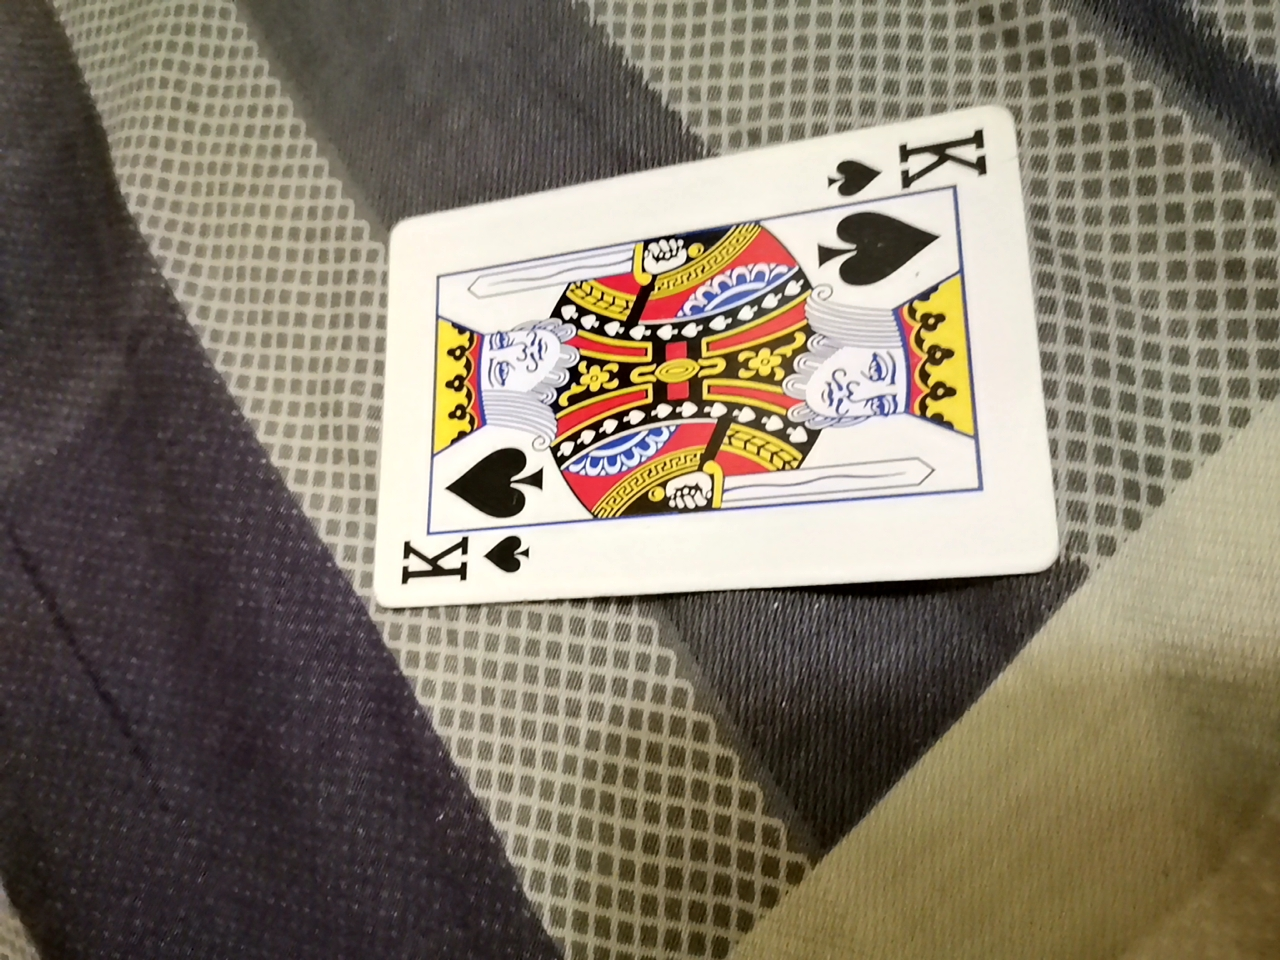ht k: (375, 91, 1057, 591)
